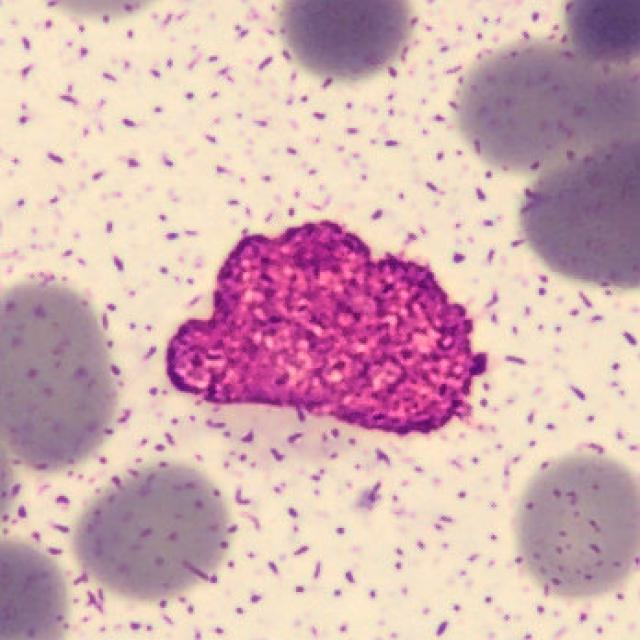Restos celulares: (167, 222, 486, 437)
